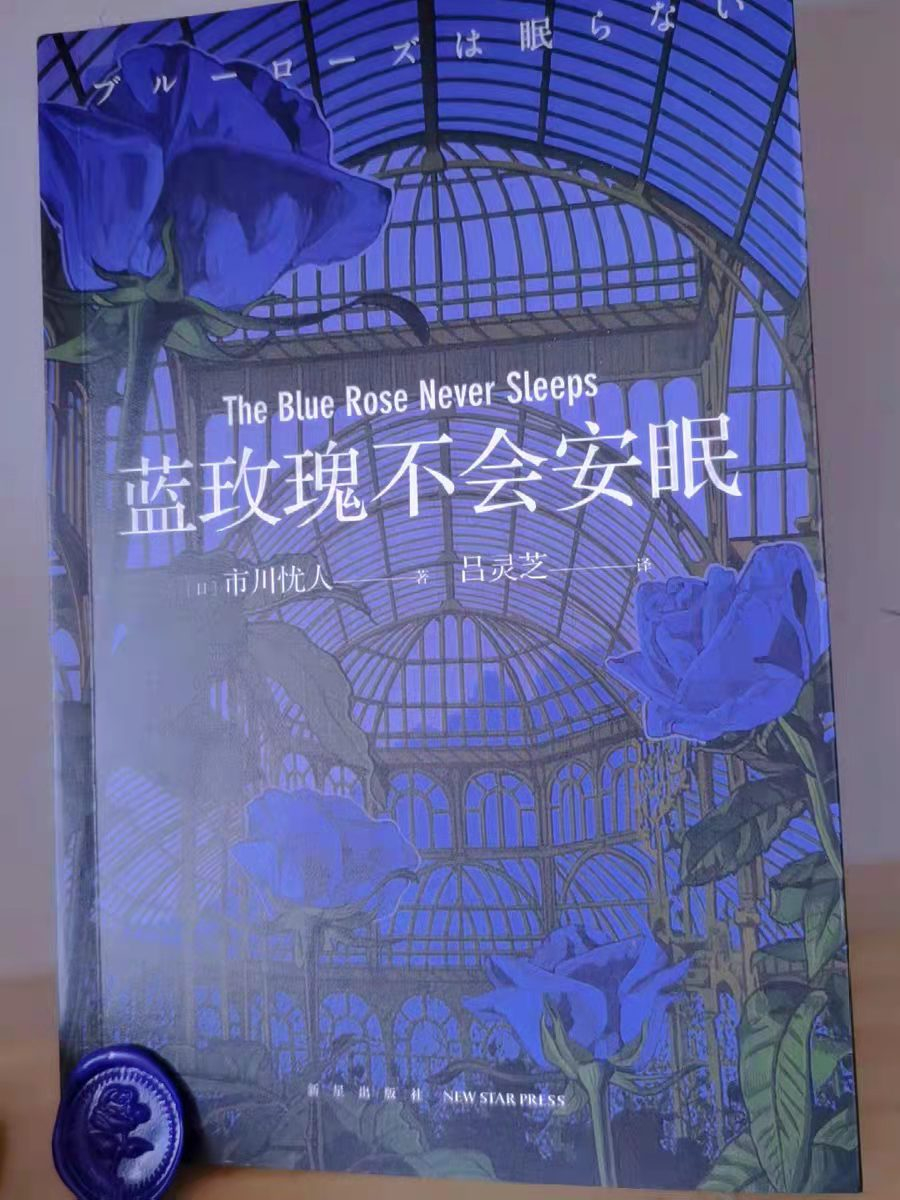book: (10, 4, 875, 1200)
